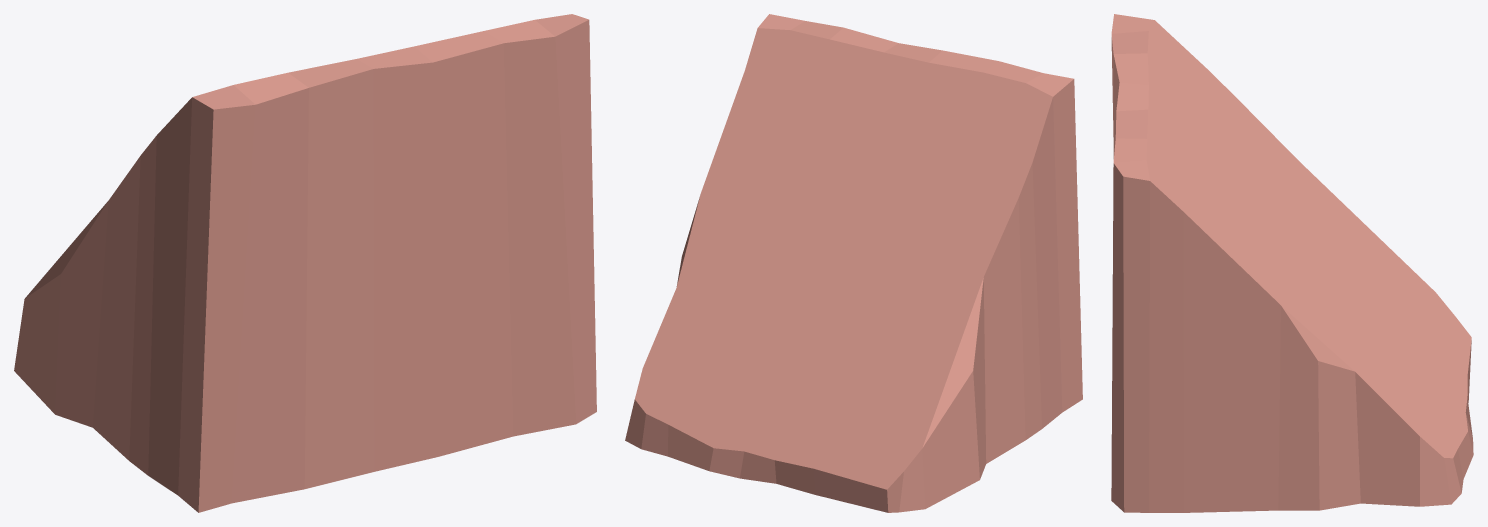
The model's file is SuperGrid_Stairs3.fbx.
3 renders of one model, left to right at view 1: azimuth 30°, elevation 25°; view 2: azimuth 150°, elevation 25°; view 3: azimuth 270°, elevation 25°, orthographic. The views are drawn at different scales.
Visible parts, largest first — view 1: SuperGrid_Stairs3; view 2: SuperGrid_Stairs3; view 3: SuperGrid_Stairs3.
Part boxes in pixels (x1,y1,x2,y2): SuperGrid_Stairs3: (14,14,596,512); SuperGrid_Stairs3: (625,14,1082,512); SuperGrid_Stairs3: (1111,14,1473,512).
Bounding box in the file's own units: 107 × 101 × 97.53.
